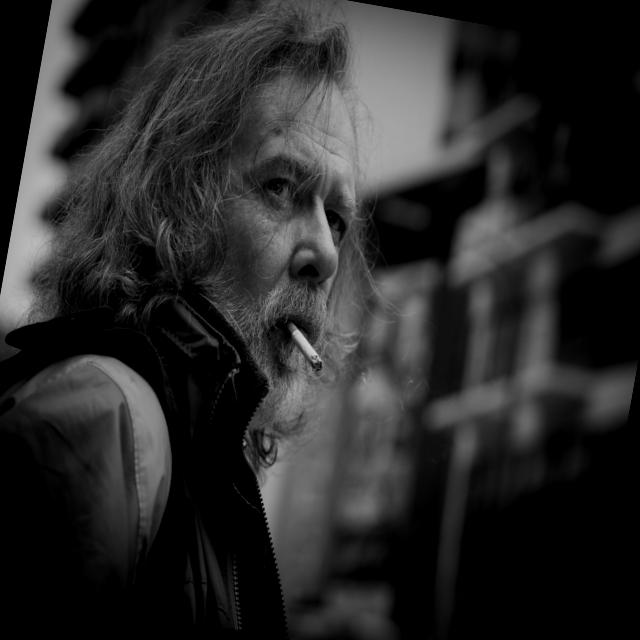smoke: (271, 310, 344, 380)
